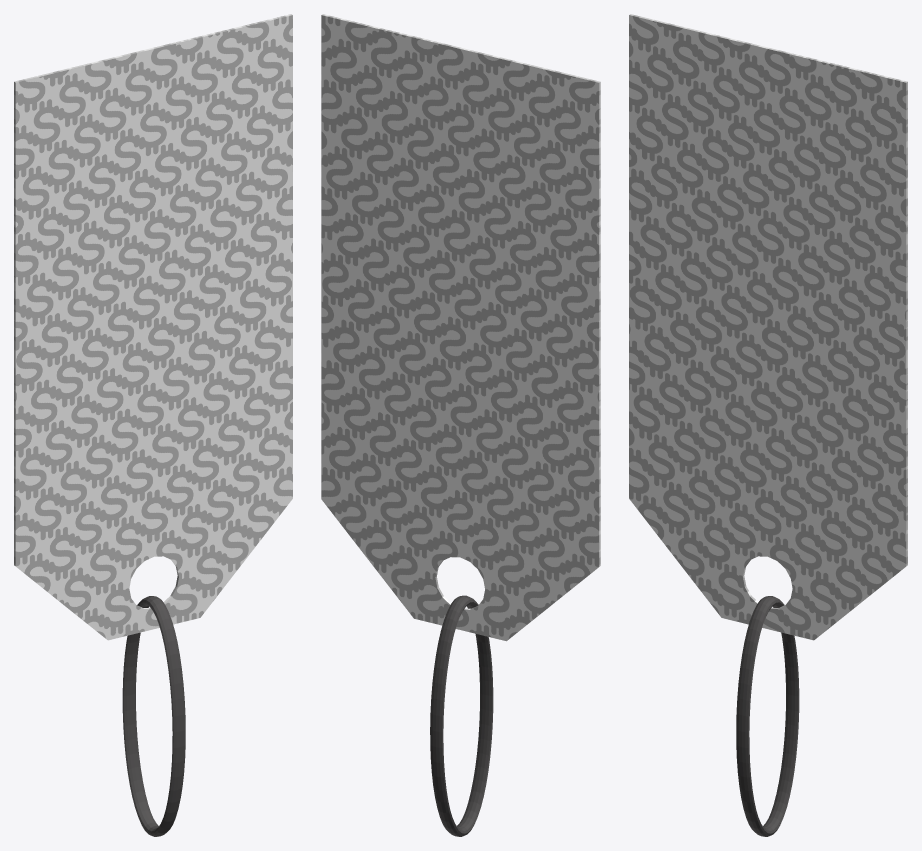
Rendered from bombLabel.glb.
3 views of the same model, side by side, from view 1: azimuth 30°, elevation 25°; view 2: azimuth 150°, elevation 25°; view 3: azimuth 330°, elevation 25° (orthographic).
Parts seen in each view (by area): view 1: Plane.006, tag string; view 2: Plane.006, tag string; view 3: Plane.006, tag string.
Part boxes in pixels (bbox=[...]): Plane.006: bbox=[14, 14, 292, 640]; tag string: bbox=[122, 596, 185, 836]; Plane.006: bbox=[321, 14, 600, 641]; tag string: bbox=[430, 595, 493, 836]; Plane.006: bbox=[629, 14, 907, 640]; tag string: bbox=[736, 596, 799, 836].
Bounding box in the file's own units: 1 × 2.71 × 0.324.
2 materials, 1 textured.
